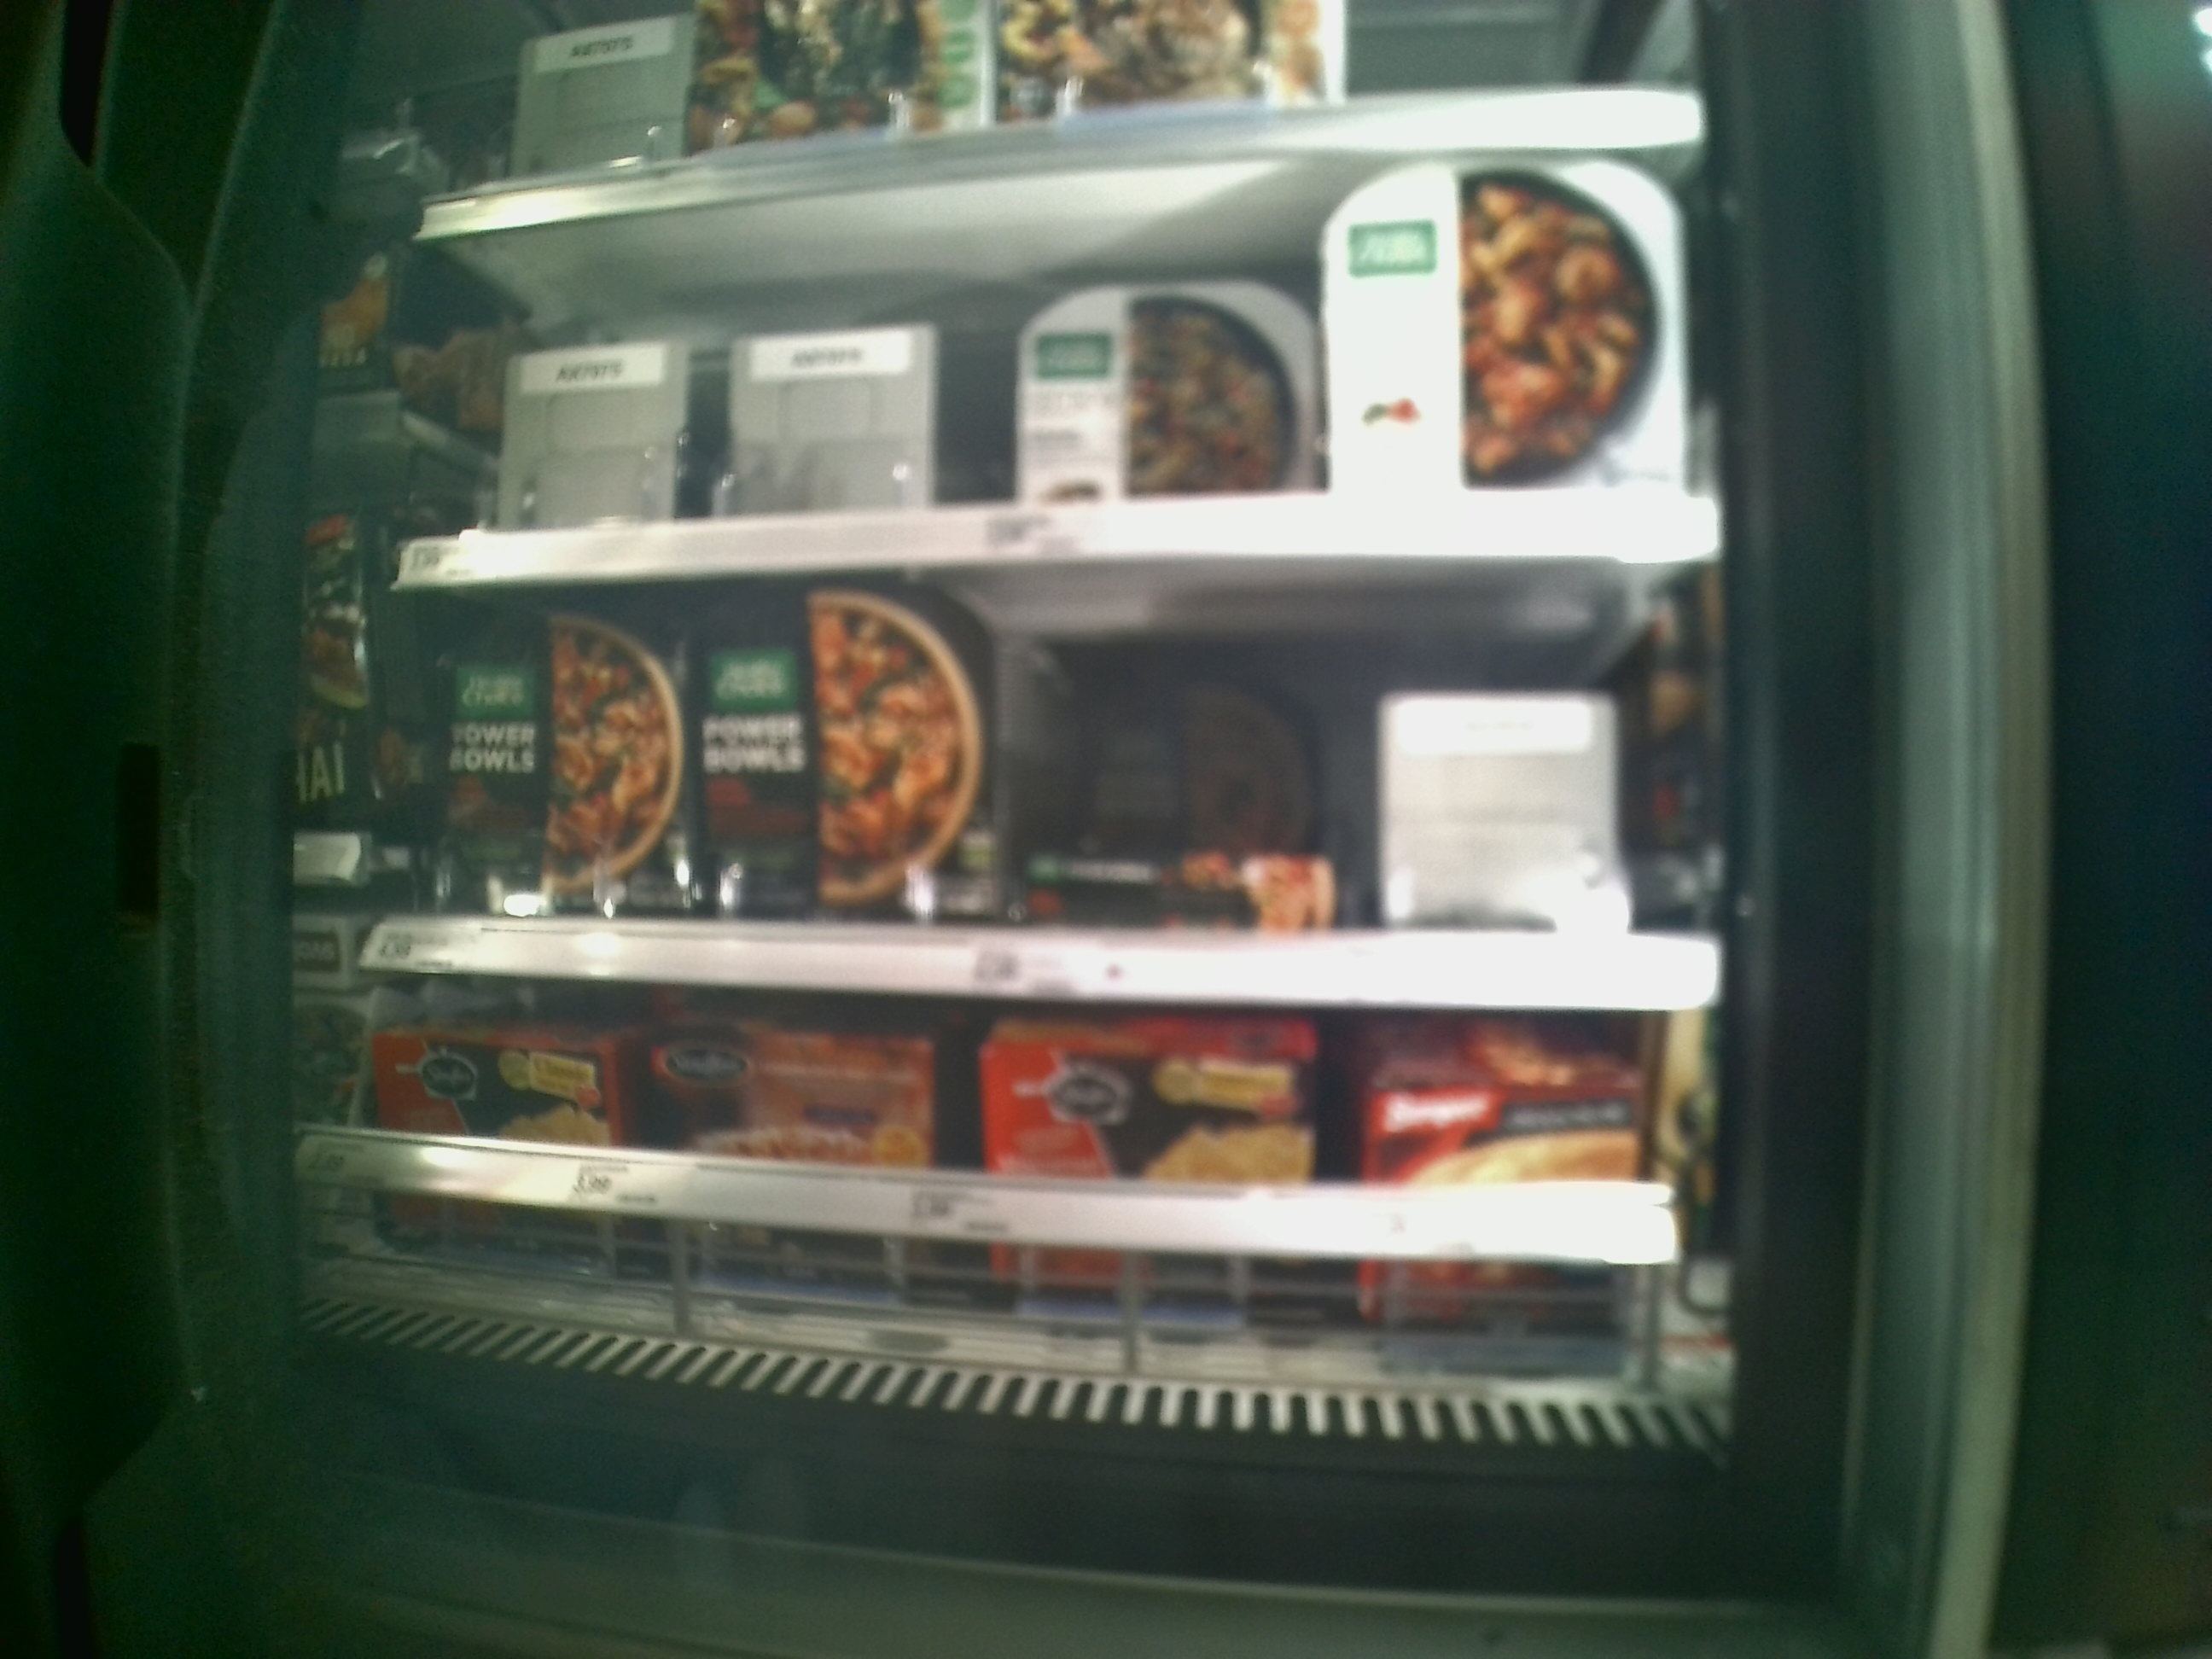shelf: (347, 967, 1707, 1452), (378, 551, 1714, 1009), (399, 141, 1712, 586)
